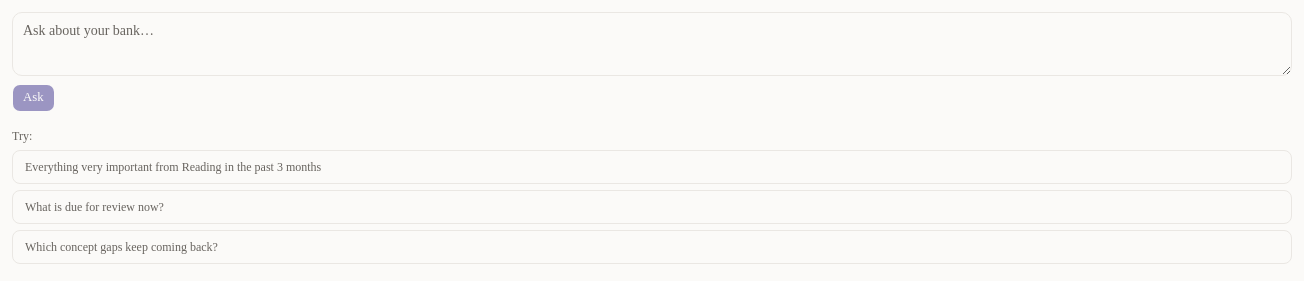
Test: Ask results › labels each hit with its urgency and slot
The width and height of the screenshot is (1304, 281).
Click the button "What is due for review now?". click: x=94, y=207
box: [12,190,1292,224]
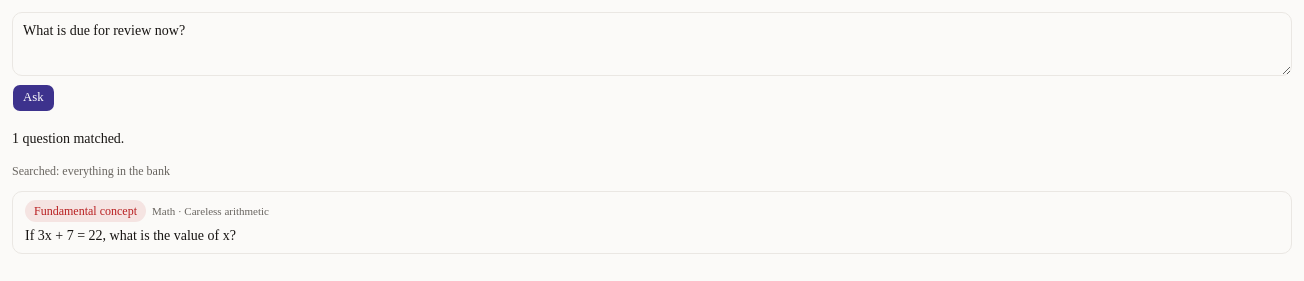
Expected: the text "Fundamental concept" is shown, [25,200,146,222]
Expected: the text "Math · Careless arithmetic" is shown, [152,202,269,219]
